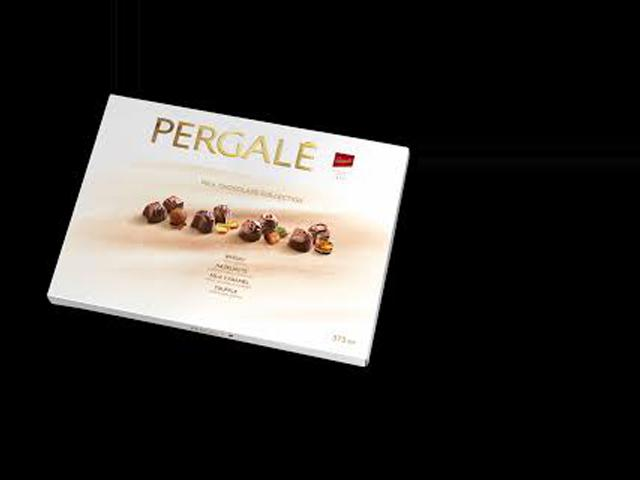chocolate: (62, 97, 395, 377)
